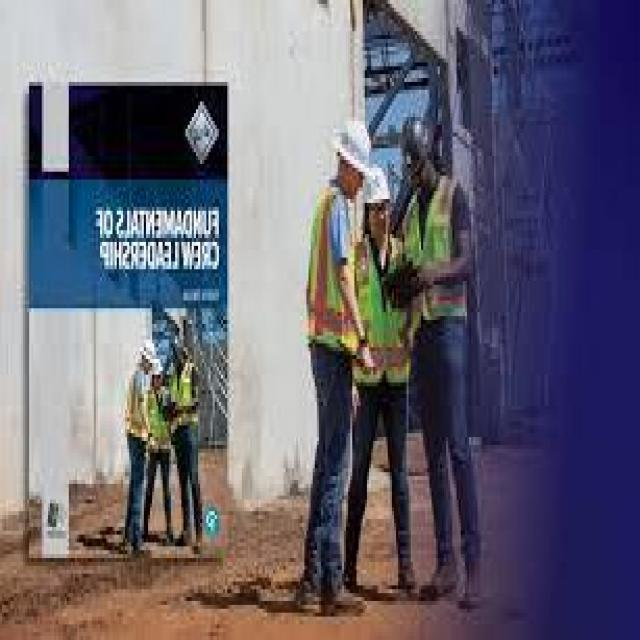Reflective-Jacket: (400, 172, 478, 343), (300, 183, 363, 363), (169, 359, 202, 437)
Safety-Helmet: (332, 117, 378, 183), (396, 109, 442, 168), (361, 160, 394, 215), (138, 332, 158, 367), (148, 355, 167, 383)
